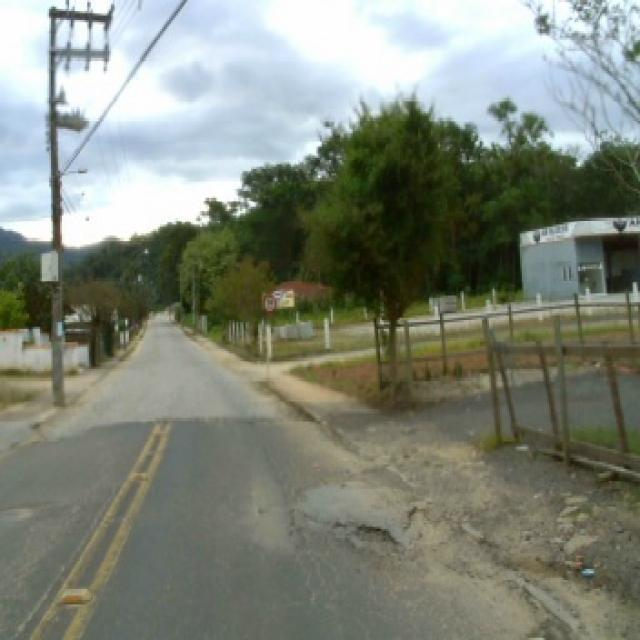Poth-hole: (349, 520, 398, 547), (284, 504, 316, 538), (54, 584, 92, 604), (400, 500, 420, 531), (2, 500, 48, 511), (329, 515, 347, 529), (128, 469, 146, 478), (151, 426, 164, 434)
